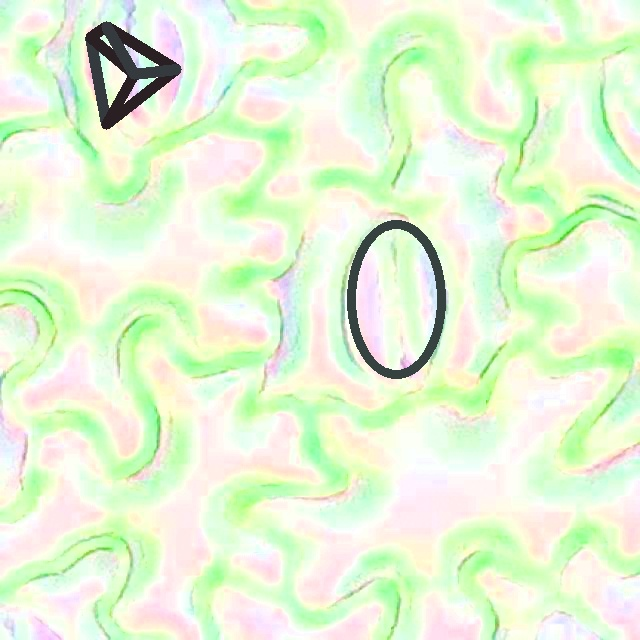open: (346, 219, 445, 379), (86, 21, 181, 128)
